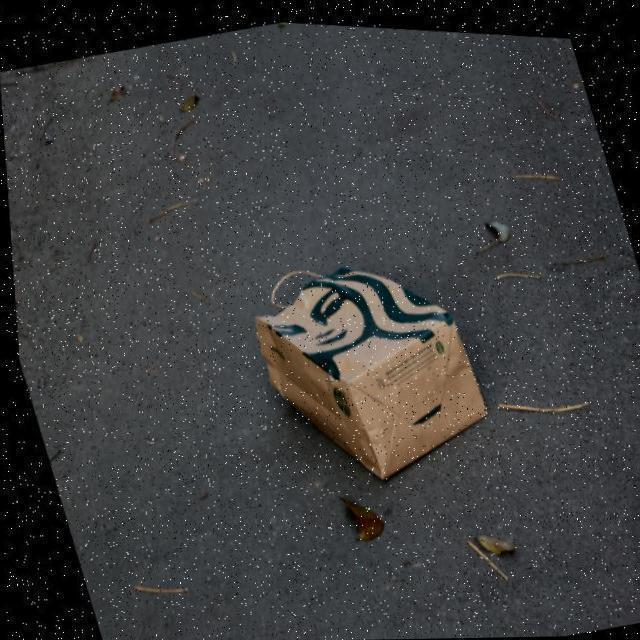Paper_Bag: (233, 224, 500, 503)
